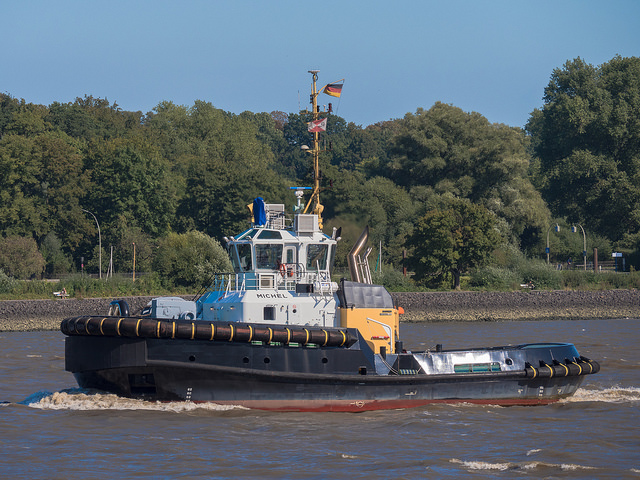tug_boat: (57, 162, 596, 414)
